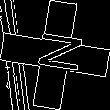N_W: (27, 31, 83, 79)
